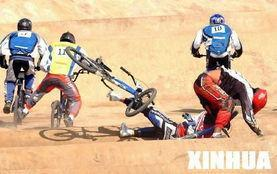Fall-Detected: (109, 87, 252, 141)
